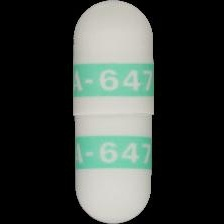0904-5784: (0, 0, 224, 224)
